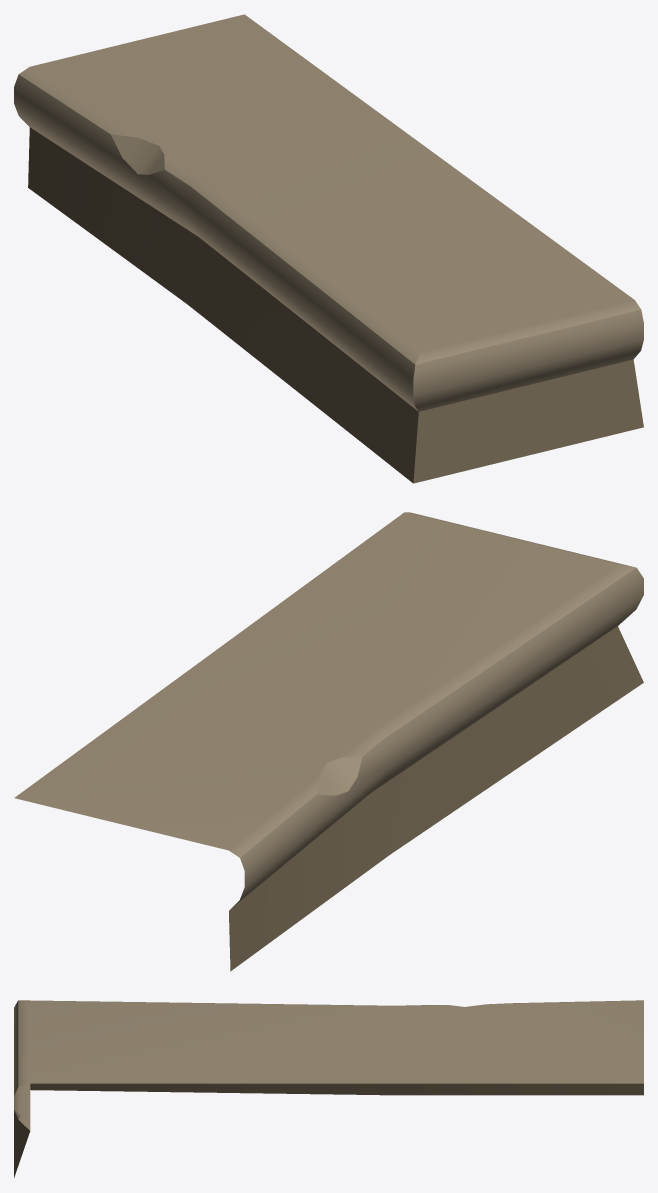
File: counter.fbx
3 views of the same model, one above another, from view 1: azimuth 30°, elevation 25°; view 2: azimuth 150°, elevation 25°; view 3: azimuth 270°, elevation 25° (orthographic). The views are drawn at different scales.
Parts seen in each view (by area): view 1: polySurface18; view 2: polySurface18; view 3: polySurface18.
Boxes of the visible parts, <box> form: polySurface18: <box>14,14,643,483</box>; polySurface18: <box>14,512,643,971</box>; polySurface18: <box>14,1000,643,1177</box>.
Bounding box in the file's own units: 100 × 50 × 300.
